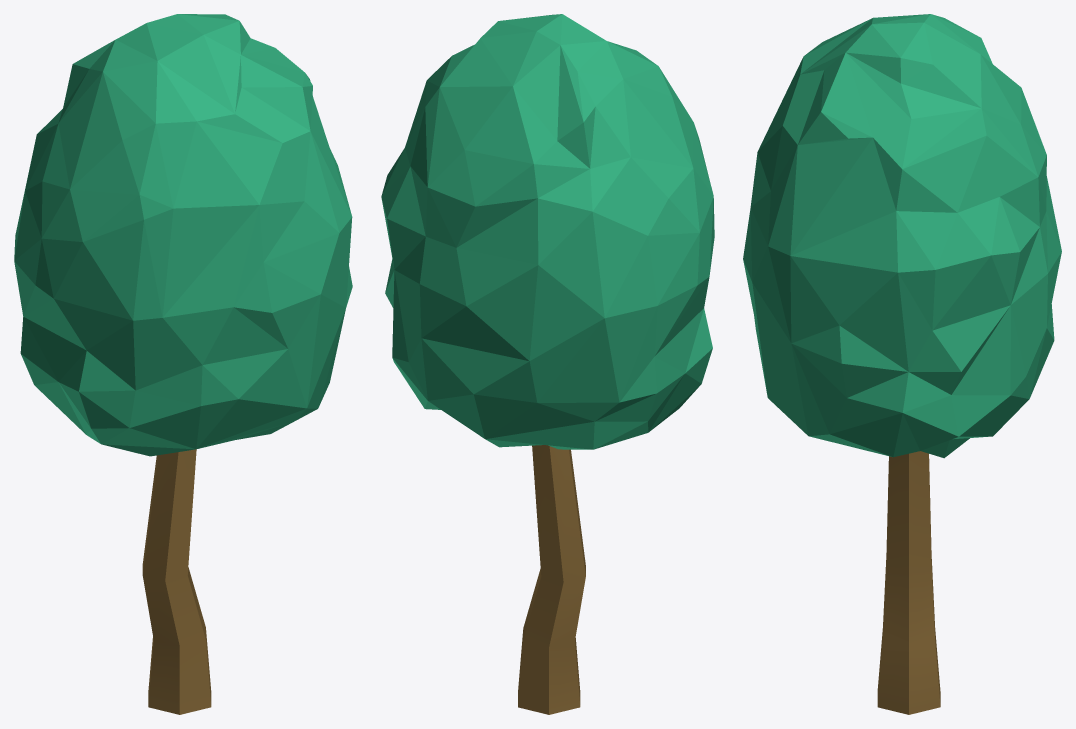
Rendered from Forest_Tree_2.fbx.
The picture shows the model from 3 angles, left to right: view 1: azimuth 30°, elevation 25°; view 2: azimuth 150°, elevation 25°; view 3: azimuth 270°, elevation 25°; orthographic projection.
Parts seen in each view (by area): view 1: polySurface3; view 2: polySurface3; view 3: polySurface3.
Boxes of the visible parts, box(x1,y1,x2,y2) form: polySurface3: box(14, 14, 352, 714); polySurface3: box(381, 14, 714, 714); polySurface3: box(743, 14, 1061, 714).
Bounding box in the file's own units: 9.52 × 20.61 × 8.77.
